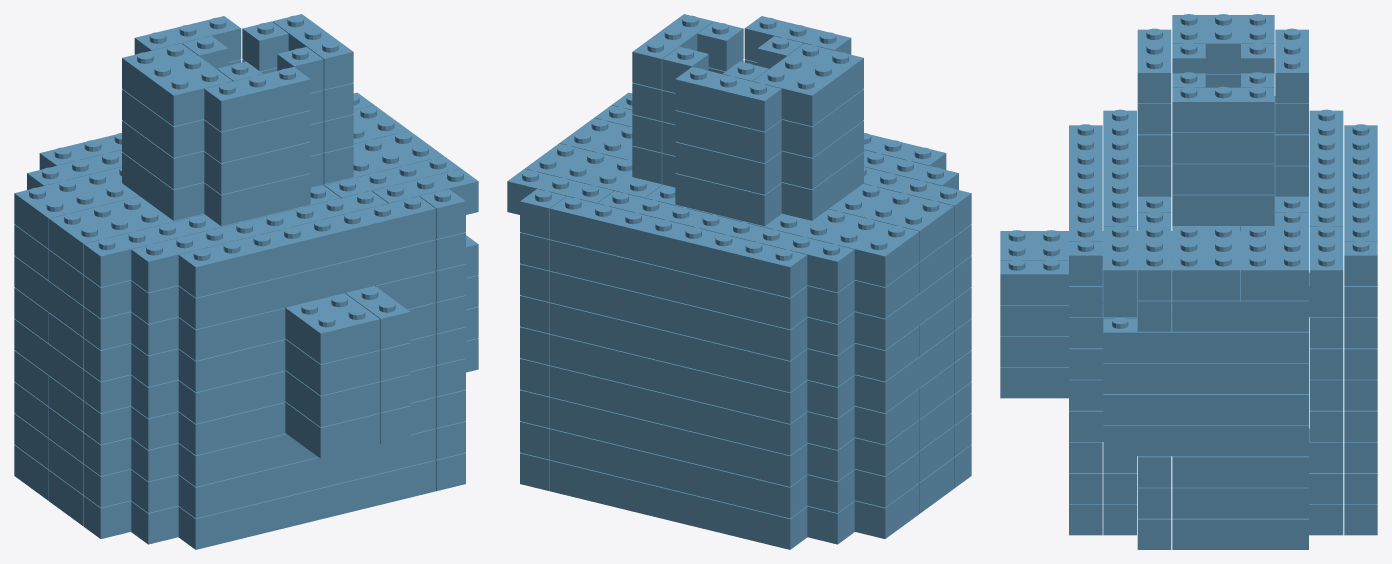
The model's file is brickmore__camera-L5-C1__raw.glb.
The picture shows the model from 3 angles, left to right: view 1: azimuth 30°, elevation 25°; view 2: azimuth 150°, elevation 25°; view 3: azimuth 270°, elevation 25°; orthographic projection.
Bounding box in the file's own units: 11.98 × 13.13 × 10.98.
